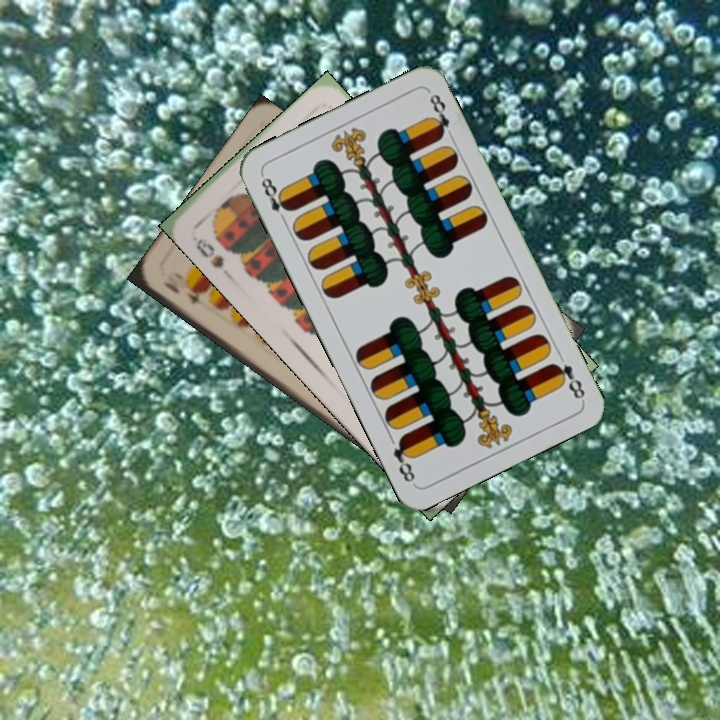E10: (158, 277, 209, 311)
E8: (257, 171, 294, 226), (548, 359, 588, 403)
S8: (188, 232, 227, 271)
